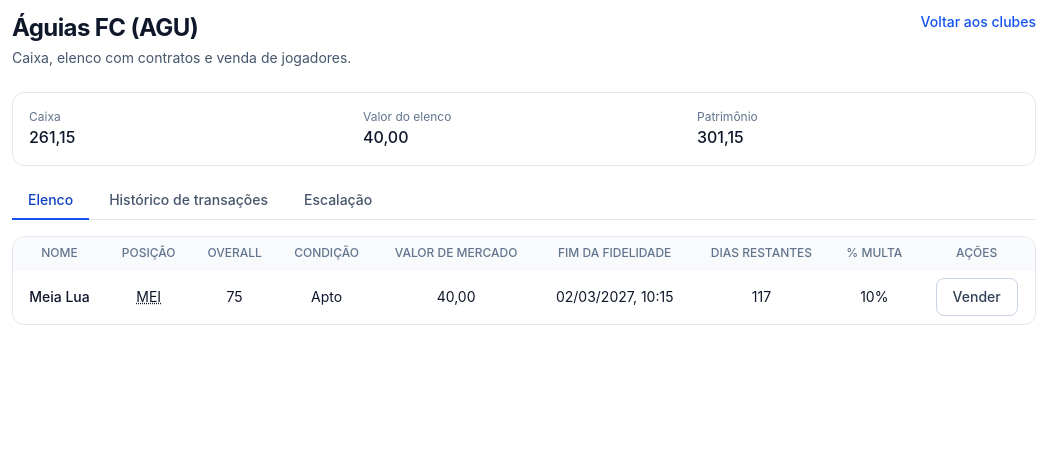
Test: ClubDetailsPage › opens the transaction history in its own tab
This screenshot has width=1048, height=454.
Expected: the button with aria-label "Vender Meia Lua" is shown, [936, 278, 1018, 316]
Click the tab "Histórico de transações" at (189, 201), box [93, 182, 284, 220]
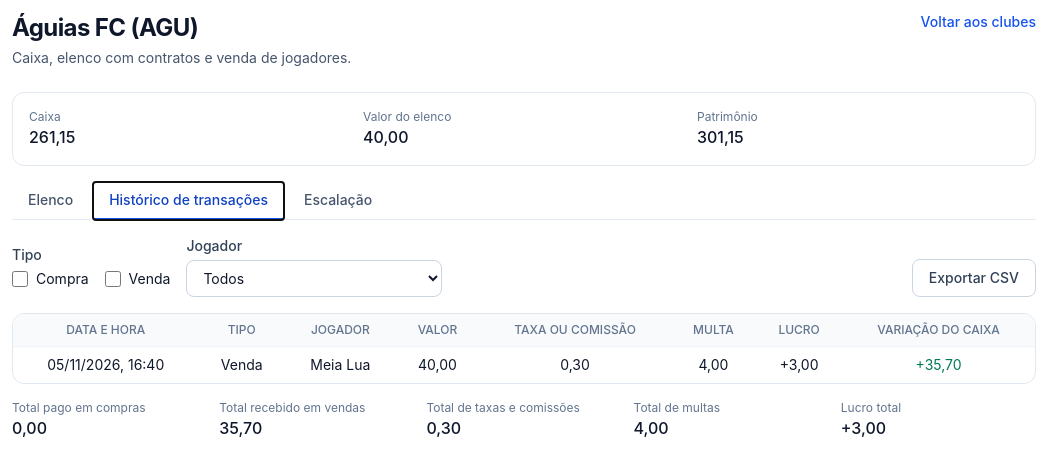
Result: the cell "Venda" is shown at [198, 346, 285, 383]
